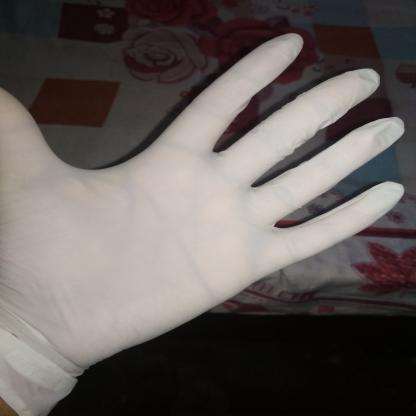gloved_hand: (3, 30, 408, 414)
